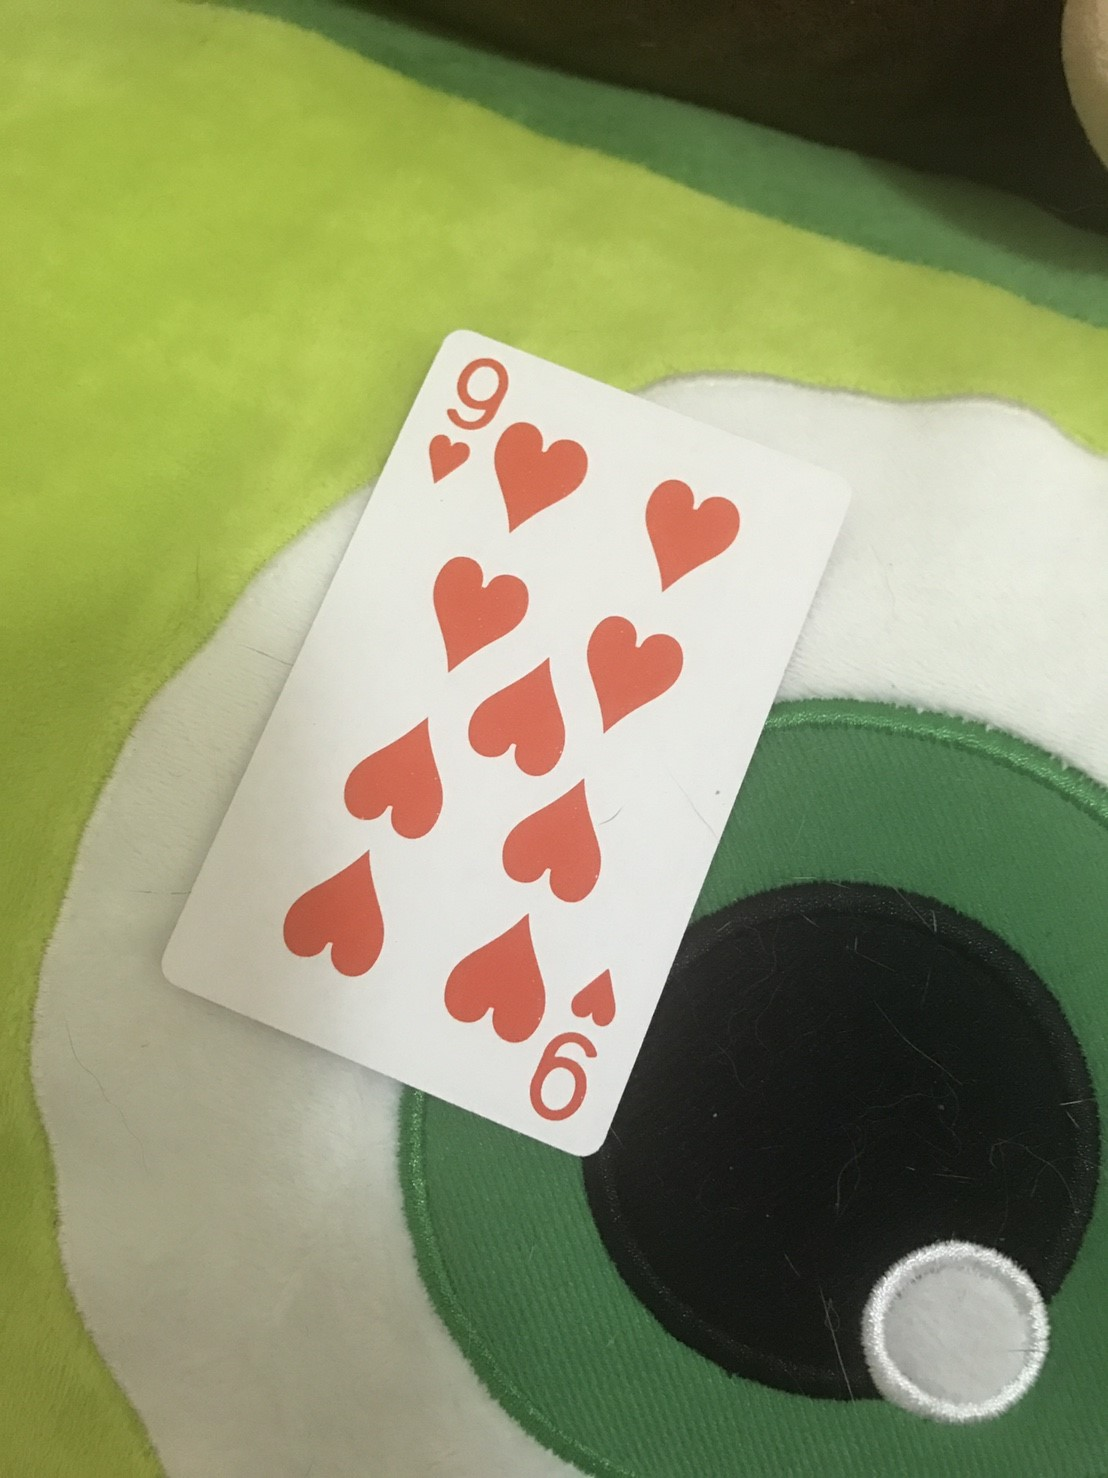hearts: (274, 843, 389, 981), (505, 773, 611, 902), (577, 607, 689, 730), (343, 718, 455, 838), (448, 919, 551, 1049), (493, 408, 594, 540), (646, 461, 741, 597), (467, 656, 567, 783), (432, 549, 530, 678), (417, 424, 475, 485), (570, 964, 625, 1024)
